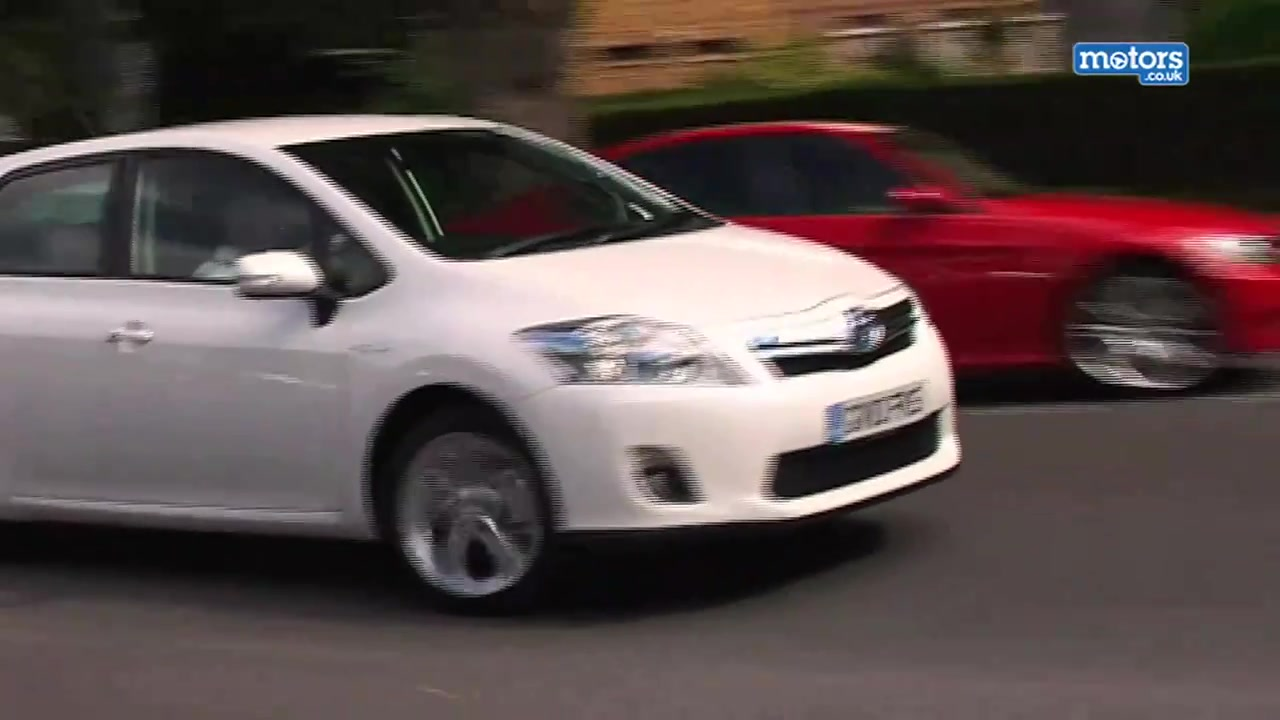car: (5, 111, 968, 613), (441, 116, 1280, 400)
